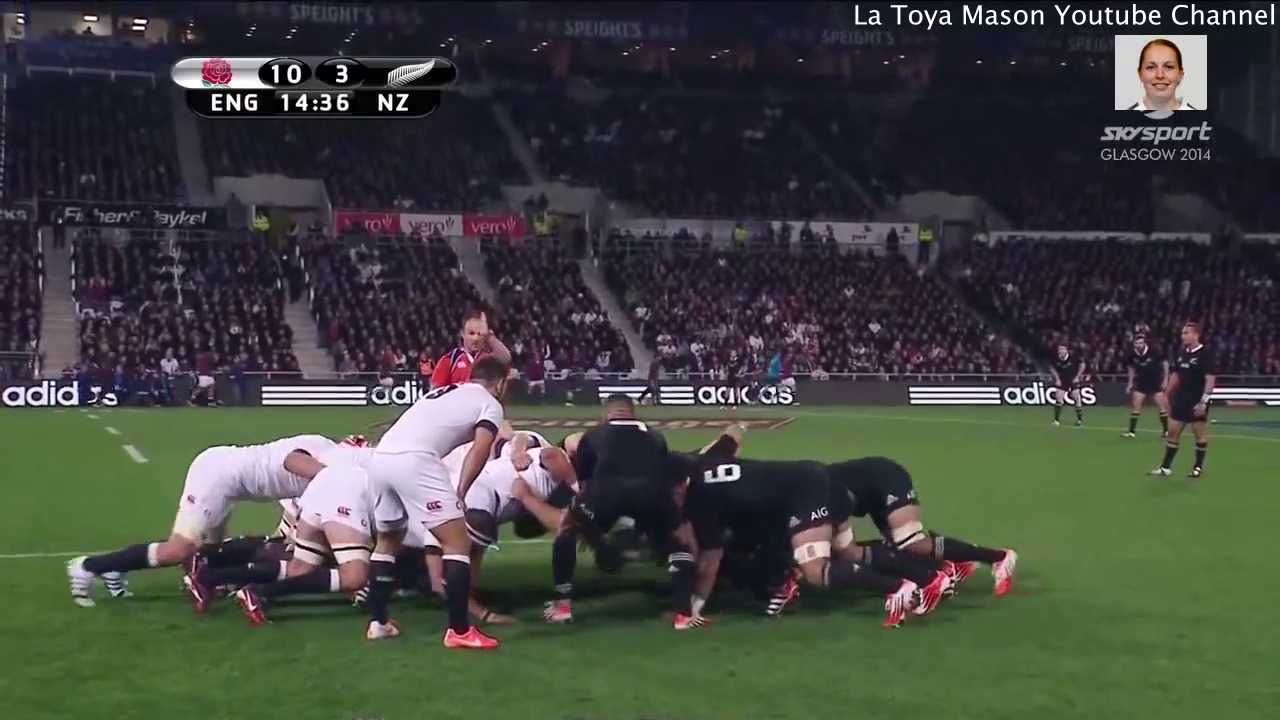player: (50, 423, 377, 616), (643, 443, 938, 628), (342, 352, 515, 664), (535, 388, 705, 646), (786, 447, 1033, 600), (1132, 316, 1215, 484), (1117, 326, 1177, 446), (1045, 341, 1088, 431)
